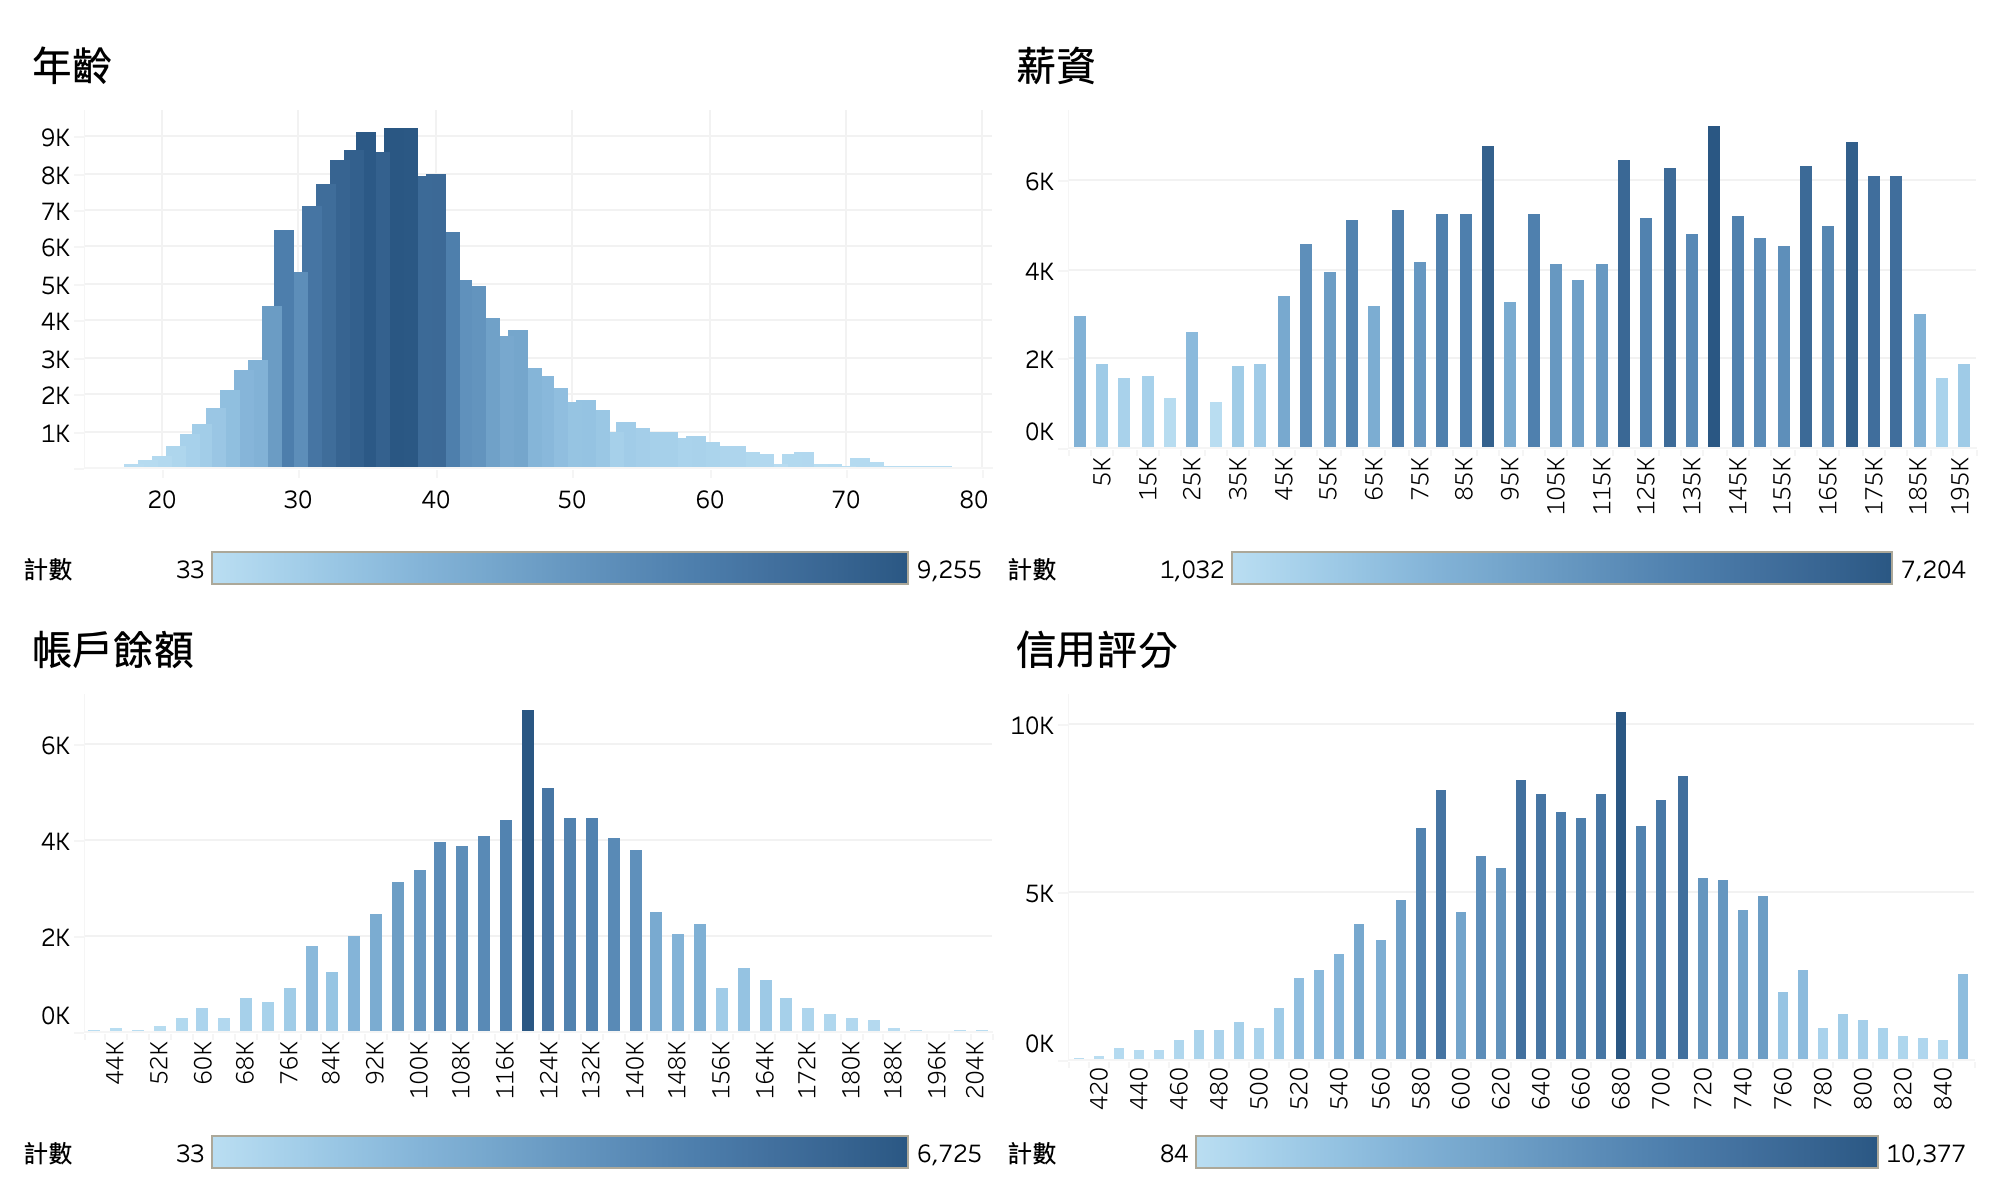

The dashboard page shown, as its layout file describes it:
{"tool":"tableau","page":{"name":"連續型資料","canvas":[1000,600],"ordinal":0},"visuals":[{"type":"worksheet","title":"年齡","mark":"Bar","rows":["Age"],"cols":["Age"],"box":[8,8,492,260]},{"type":"worksheet","title":"薪資","mark":"Automatic","rows":["EstimatedSalary"],"cols":["Estimated Salary(資料桶)"],"box":[500,8,492,260]},{"type":"legend","title":"年齡","param":"[federated.1xja0wz0z15wzl14sofyg1w1r8ij].[cnt:Age:qk]","box":[8,268,492,32]},{"type":"legend","title":"薪資","param":"[federated.1xja0wz0z15wzl14sofyg1w1r8ij].[cnt:EstimatedSalary:qk]","box":[500,268,492,32]},{"type":"worksheet","title":"帳戶餘額","mark":"Bar","rows":["Balance"],"cols":["Balance(資料桶)"],"box":[8,300,492,260]},{"type":"worksheet","title":"信用評分","mark":"Bar","rows":["CreditScore"],"cols":["Credit Score(資料桶)"],"box":[500,300,492,260]},{"type":"legend","title":"帳戶餘額","param":"[federated.1xja0wz0z15wzl14sofyg1w1r8ij].[cnt:Balance:qk]","box":[8,560,492,32]},{"type":"legend","title":"信用評分","param":"[federated.1xja0wz0z15wzl14sofyg1w1r8ij].[cnt:CreditScore:qk]","box":[500,560,492,32]}]}

Visuals, with their boxes in screenshot pixels (x1, y1, x2, y2), scaled from the page's 1000x600 canvas onto the 2000x1200 screenshot:
"年齡" worksheet (Bar marks): 16, 16, 1000, 536
"薪資" worksheet: 1000, 16, 1984, 536
"年齡" legend: 16, 536, 1000, 600
"薪資" legend: 1000, 536, 1984, 600
"帳戶餘額" worksheet (Bar marks): 16, 600, 1000, 1120
"信用評分" worksheet (Bar marks): 1000, 600, 1984, 1120
"帳戶餘額" legend: 16, 1120, 1000, 1184
"信用評分" legend: 1000, 1120, 1984, 1184
